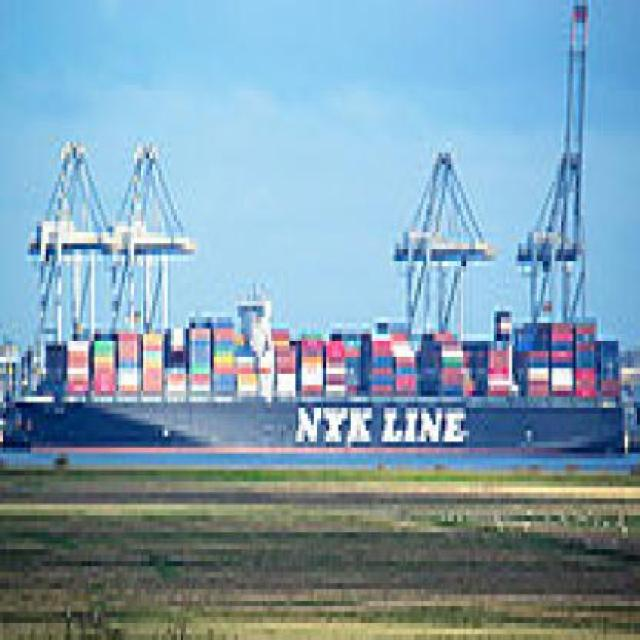container: (7, 301, 638, 476)
